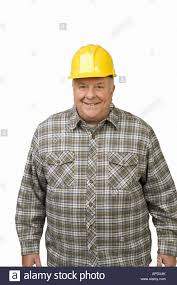Person_wearing_helmet: (64, 37, 123, 92)
